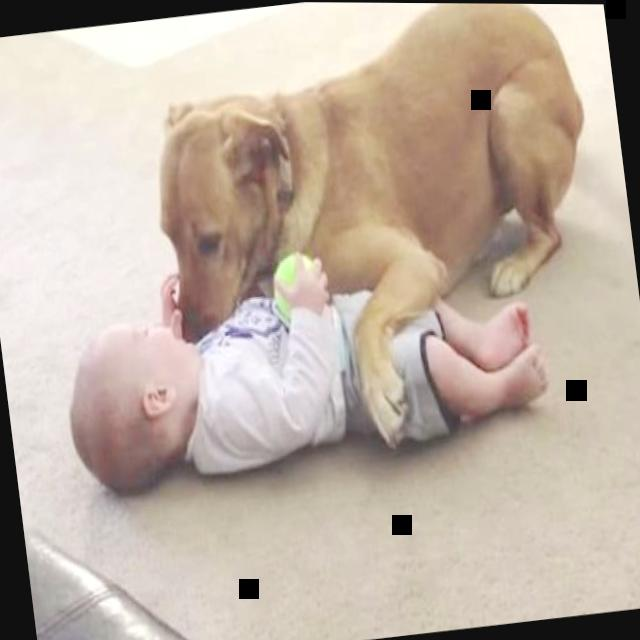Fall-Detected: (13, 0, 603, 522)
